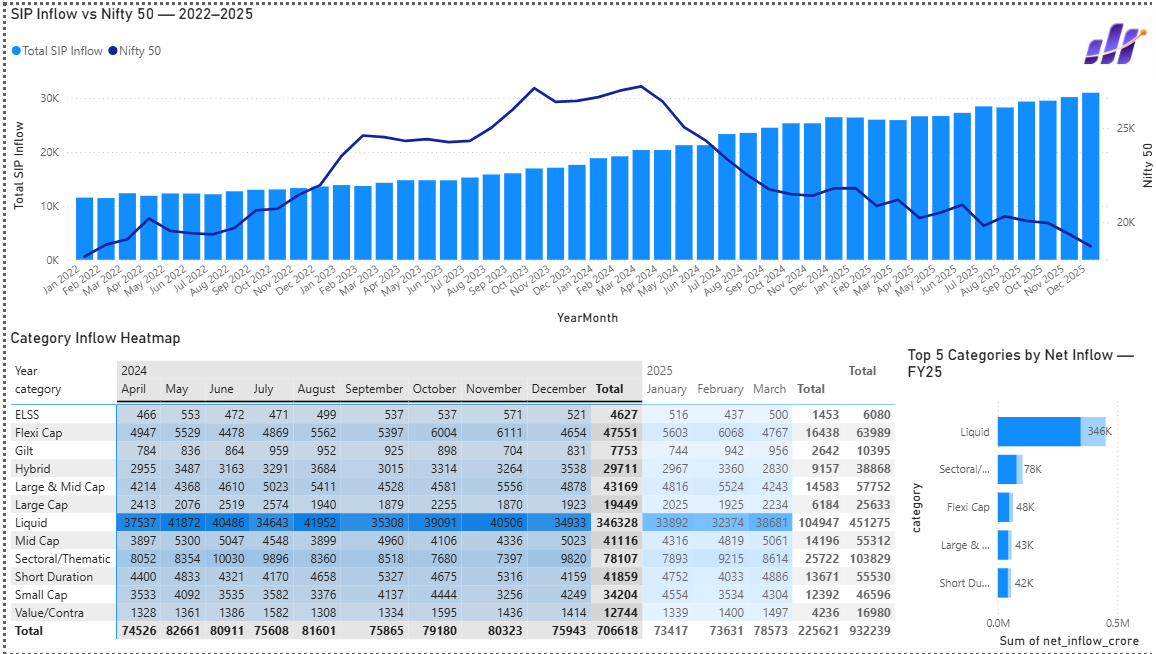

This screenshot's page, from the dashboard's own definition file:
{"tool":"powerbi","page":{"name":"SIP & Market Trends","canvas":[1280,720],"ordinal":3},"visuals":[{"type":"lineClusteredColumnComboChart","title":"SIP Inflow vs Nifty 50 — 2022–2025","fields":{"Y":["04_monthly_sip_inflows.Total SIP Inflow"],"Y2":["10_benchmark_indices.Nifty 50"],"Category":["DateTable.YearMonth"]},"box":[0,0,1280,360],"z":0},{"type":"textbox","box":[0,542,13.3,177.2],"z":1000},{"type":"textbox","box":[293.9,0,652.8,59.1],"z":2000},{"type":"pivotTable","title":"Category Inflow Heatmap","fields":{"Rows":["05_category_inflows.category"],"Values":["Sum(05_category_inflows.net_inflow_crore)"],"Columns":["05_category_inflows.month.Variation.Date Hierarchy.Year","05_category_inflows.month.Variation.Date Hierarchy.Month","05_category_inflows.month.Variation.Date Hierarchy.Day"]},"box":[0,360,1008.3,358.3],"z":3000},{"type":"clusteredBarChart","title":"Top 5 Categories by Net Inflow — FY25","fields":{"Category":["05_category_inflows.category"],"Y":["Sum(05_category_inflows.net_inflow_crore)"]},"box":[996.7,378.3,283.3,340],"z":4000},{"type":"image","box":[1185,0,95,86.7],"z":4001}]}

Visuals, with their boxes in screenshot pixels (x1, y1, x2, y2), scaled from the page's 1280x720 canvas onto the 1156x654 screenshot:
"SIP Inflow vs Nifty 50 — 2022–2025" lineClusteredColumnComboChart: crop(0, 0, 1155, 327)
textbox: crop(0, 492, 12, 653)
textbox: crop(265, 0, 855, 54)
"Category Inflow Heatmap" pivotTable: crop(0, 327, 911, 652)
"Top 5 Categories by Net Inflow — FY25" clusteredBarChart: crop(900, 344, 1155, 652)
image: crop(1070, 0, 1155, 79)
